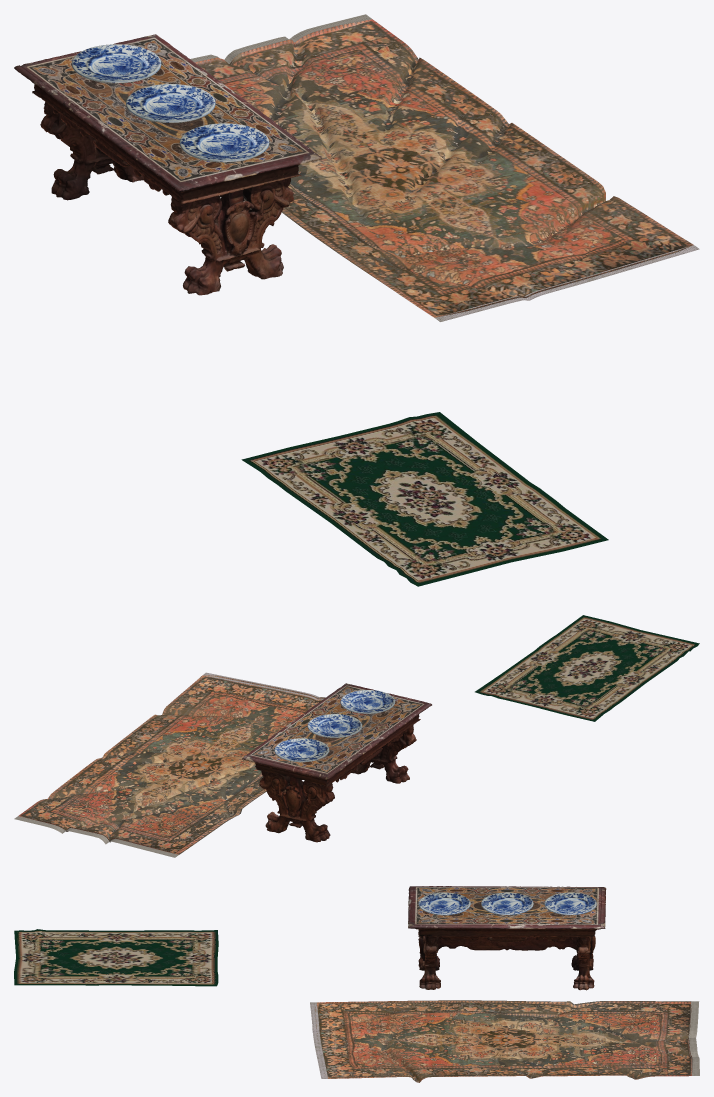
The model's file is truocbantho.glb.
3 renders of one model, top to bottom at view 1: azimuth 30°, elevation 25°; view 2: azimuth 150°, elevation 25°; view 3: azimuth 270°, elevation 25°, orthographic. The views are drawn at different scales.
Parts seen in each view (by area): view 1: Old_Persian_carpet_Old Persian carpet_0, Object_5, Object_3.001, pCylinder1_phong2_0.003, pCylinder1_phong2_0.002, pCylinder1_phong2_0.001, Old_Persian_carpet_Old Persian carpet_0.001, pCylinder1_phong2_0.006, pCylinder1_phong2_0.005; view 2: Old_Persian_carpet_Old Persian carpet_0, Object_5, Object_3.001, pCylinder1_phong2_0.003, pCylinder1_phong2_0.002, pCylinder1_phong2_0.001, pCylinder1_phong2_0.005, Old_Persian_carpet_Old Persian carpet_0.001, pCylinder1_phong2_0.006; view 3: Old_Persian_carpet_Old Persian carpet_0, Object_5, Object_3.001, Old_Persian_carpet_Old Persian carpet_0.001, pCylinder1_phong2_0.003, pCylinder1_phong2_0.001, pCylinder1_phong2_0.002, pCylinder1_phong2_0.006, pCylinder1_phong2_0.005.
Boxes of the visible parts, <box> form: Old_Persian_carpet_Old Persian carpet_0: <box>190,14,699,321</box>; Object_5: <box>241,412,608,586</box>; Object_3.001: <box>14,34,321,295</box>; pCylinder1_phong2_0.003: <box>71,44,161,83</box>; pCylinder1_phong2_0.002: <box>126,84,215,121</box>; pCylinder1_phong2_0.001: <box>180,123,269,162</box>; Old_Persian_carpet_Old Persian carpet_0.001: <box>191,15,698,320</box>; pCylinder1_phong2_0.006: <box>126,84,214,122</box>; pCylinder1_phong2_0.005: <box>179,124,268,162</box>; Old_Persian_carpet_Old Persian carpet_0: <box>14,672,325,857</box>; Object_5: <box>475,615,699,721</box>; Object_3.001: <box>242,683,431,842</box>; pCylinder1_phong2_0.003: <box>274,738,329,762</box>; pCylinder1_phong2_0.002: <box>307,714,362,737</box>; pCylinder1_phong2_0.001: <box>340,690,395,713</box>; pCylinder1_phong2_0.005: <box>340,690,395,713</box>; Old_Persian_carpet_Old Persian carpet_0.001: <box>17,673,323,857</box>; pCylinder1_phong2_0.006: <box>308,714,362,737</box>; Old_Persian_carpet_Old Persian carpet_0: <box>310,1000,699,1082</box>; Object_5: <box>14,929,218,986</box>; Object_3.001: <box>408,886,606,990</box>; Old_Persian_carpet_Old Persian carpet_0.001: <box>310,1001,699,1077</box>; pCylinder1_phong2_0.003: <box>544,892,596,915</box>; pCylinder1_phong2_0.001: <box>418,892,470,915</box>; pCylinder1_phong2_0.002: <box>481,892,533,915</box>; pCylinder1_phong2_0.006: <box>481,892,532,914</box>; pCylinder1_phong2_0.005: <box>419,892,470,914</box>.
Bounding box in the file's own units: 3.22 × 0.748 × 5.99.
Materials: 6 (6 with a texture image).
